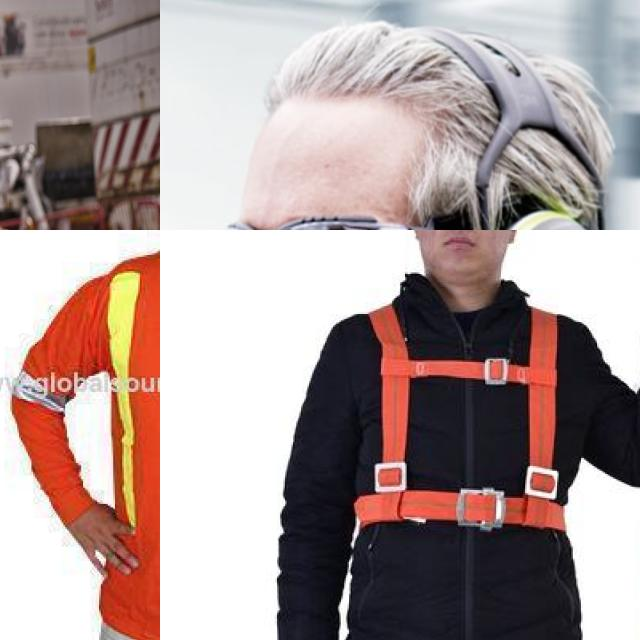Ear-protection: (482, 89, 617, 230)
Harness: (348, 297, 579, 640)
hand_noglove: (55, 500, 147, 584)
person: (205, 37, 640, 230), (62, 230, 160, 640)
vest: (90, 271, 160, 569)
